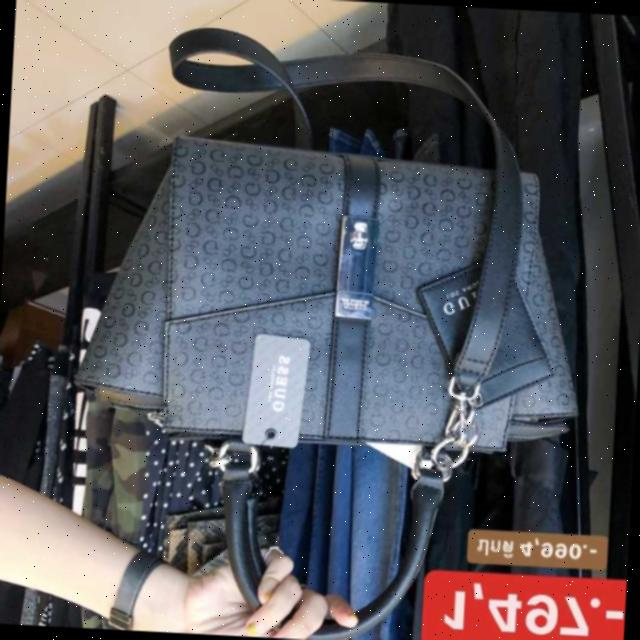Handbag: (68, 124, 596, 492)
